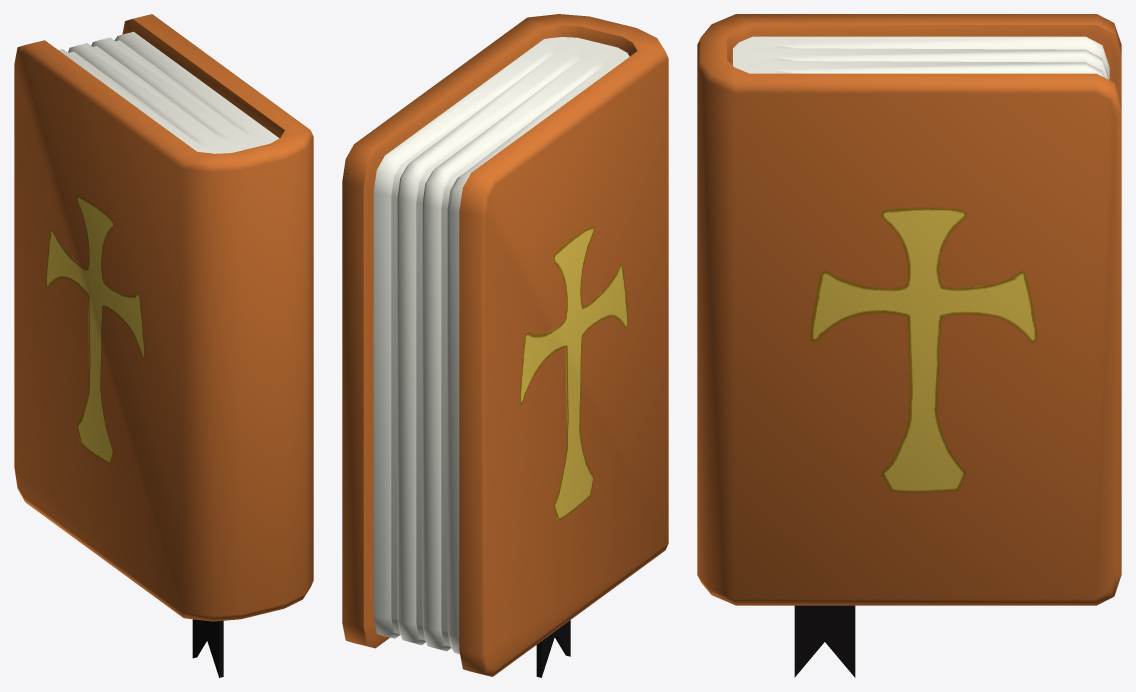
File: BookE.fbx
3 views of the same model, side by side, from view 1: azimuth 30°, elevation 25°; view 2: azimuth 150°, elevation 25°; view 3: azimuth 270°, elevation 25° (orthographic). The views are drawn at different scales.
Visible parts, largest first — view 1: Book E; view 2: Book E; view 3: Book E.
Boxes of the visible parts, x1=… form: Book E: x1=14, y1=14, x2=313, y2=677; Book E: x1=342, y1=14, x2=668, y2=677; Book E: x1=697, y1=14, x2=1121, y2=677.
Bounding box in the file's own units: 0.2134 × 0.8547 × 0.524.
